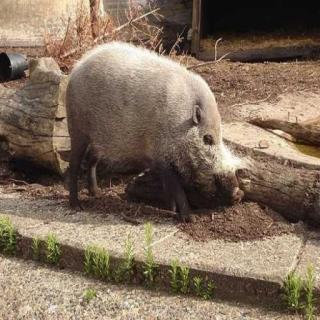Pig: (59, 32, 241, 232)
